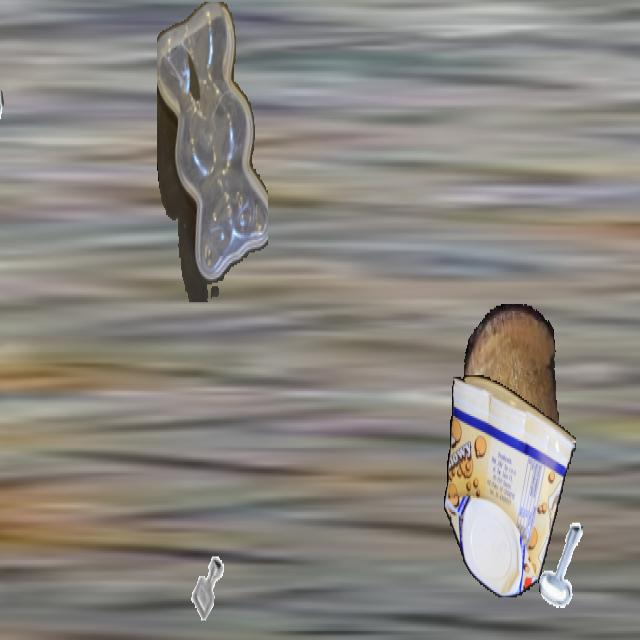metal: (538, 521, 590, 613), (183, 542, 233, 631), (0, 82, 35, 181), (635, 2, 640, 94)
plastic: (157, 2, 267, 300), (444, 375, 576, 596)
wood: (464, 304, 558, 489)
